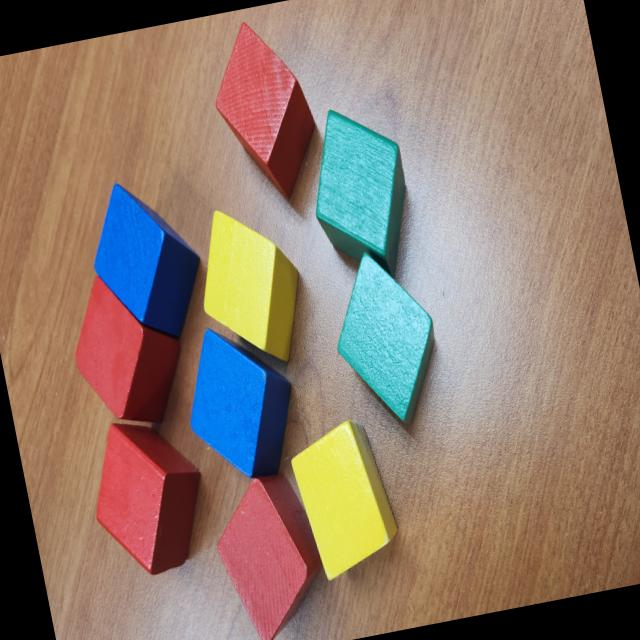blue: (79, 170, 215, 354), (172, 314, 310, 492)
green: (322, 243, 452, 437), (298, 97, 425, 292)
red: (202, 14, 334, 228), (80, 408, 218, 584), (204, 466, 340, 640), (61, 262, 196, 436)
yellow: (186, 197, 315, 378), (284, 416, 402, 586)
